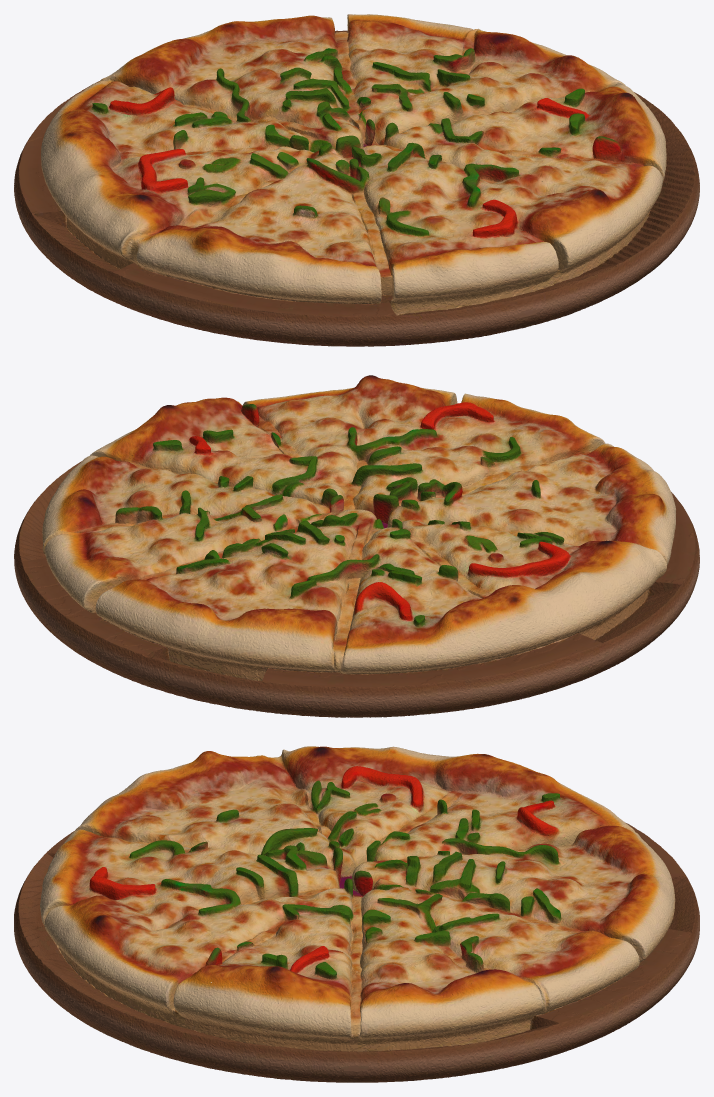
The model's file is pizzaSpecial.glb.
3 views of the same model, one above another, from view 1: azimuth 30°, elevation 25°; view 2: azimuth 150°, elevation 25°; view 3: azimuth 270°, elevation 25° (orthographic).
Parts seen in each view (by area): view 1: tripo_node_36d734d3-39d6-4bd6-8751-2f5f7328bebf; view 2: tripo_node_36d734d3-39d6-4bd6-8751-2f5f7328bebf; view 3: tripo_node_36d734d3-39d6-4bd6-8751-2f5f7328bebf.
Part boxes in pixels (x1,y1,x2,y2): tripo_node_36d734d3-39d6-4bd6-8751-2f5f7328bebf: (14,14,699,346); tripo_node_36d734d3-39d6-4bd6-8751-2f5f7328bebf: (14,375,699,717); tripo_node_36d734d3-39d6-4bd6-8751-2f5f7328bebf: (14,746,699,1082).
Bounding box in the file's own units: 1 × 0.1383 × 1.
Materials: 1 (1 with a texture image).
